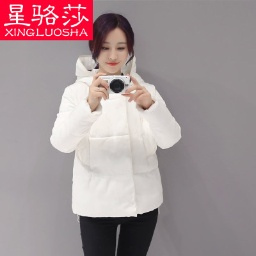face: (85, 7, 141, 80)
